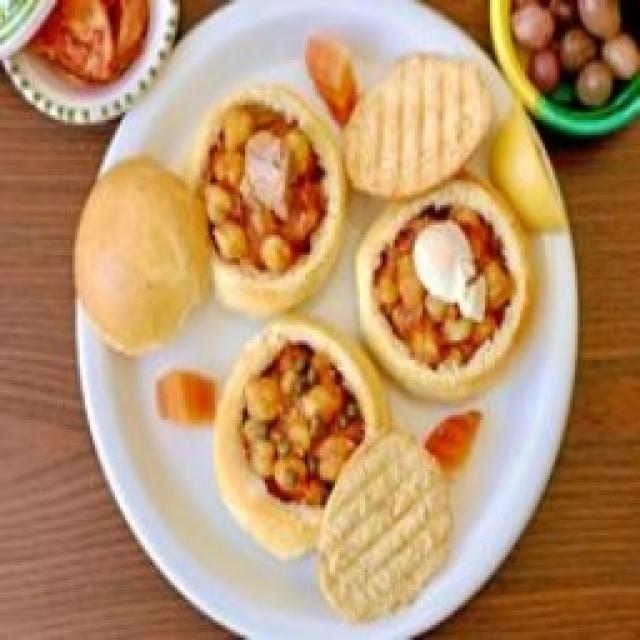Lablabi: (359, 178, 528, 398), (239, 342, 365, 506), (204, 104, 324, 268)
